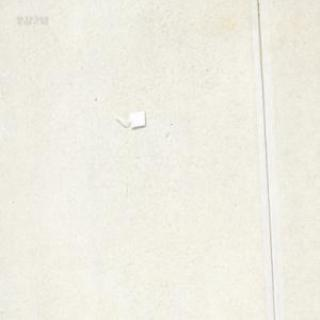LuggageTagtrack_idkeyframe: (112, 109, 146, 128)
